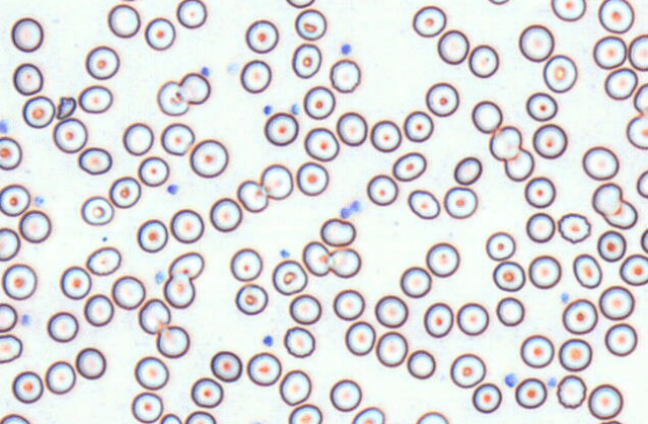PLT: (0, 116, 15, 136), (504, 372, 519, 388), (153, 269, 167, 286), (167, 181, 182, 196), (340, 41, 354, 57), (33, 194, 47, 208), (262, 334, 276, 348), (20, 313, 33, 328), (558, 292, 572, 305), (352, 198, 364, 213), (261, 103, 274, 116), (338, 206, 351, 218), (200, 66, 214, 77), (291, 103, 302, 115), (279, 249, 290, 261), (548, 376, 557, 388)
RBC: (189, 138, 228, 178), (518, 24, 554, 62), (542, 54, 577, 93), (449, 352, 486, 388), (1, 263, 37, 300), (561, 298, 598, 334), (581, 145, 619, 180), (587, 383, 623, 419), (271, 259, 307, 295), (52, 117, 88, 153), (303, 126, 339, 161), (532, 123, 567, 159), (598, 285, 634, 320), (84, 45, 120, 80), (134, 355, 169, 390), (246, 351, 281, 386), (169, 208, 204, 243), (263, 111, 298, 146), (259, 163, 293, 199), (425, 81, 459, 117), (138, 297, 171, 334), (488, 125, 522, 160), (295, 161, 329, 196), (111, 275, 145, 310), (425, 242, 459, 277), (107, 3, 141, 38), (156, 80, 189, 116), (10, 16, 43, 52), (598, 0, 634, 33), (155, 324, 189, 358), (374, 294, 408, 328), (520, 334, 554, 368), (592, 35, 626, 69), (245, 19, 279, 53), (209, 197, 242, 232), (528, 254, 561, 289), (163, 272, 195, 308), (279, 369, 311, 405), (375, 331, 407, 367), (160, 122, 194, 155), (229, 247, 262, 281), (604, 67, 638, 100), (443, 186, 477, 219), (18, 209, 51, 243), (604, 322, 637, 356), (558, 338, 592, 371), (456, 302, 489, 336), (437, 29, 469, 64), (329, 58, 361, 93), (291, 42, 322, 78), (108, 175, 141, 208), (22, 95, 55, 128), (591, 182, 623, 216), (44, 360, 76, 394), (136, 218, 168, 252), (234, 283, 268, 315), (59, 265, 91, 299), (239, 59, 271, 93), (303, 85, 335, 119), (412, 5, 446, 37), (344, 320, 375, 355), (336, 111, 367, 146), (468, 43, 499, 78), (320, 217, 356, 247), (423, 301, 453, 337), (85, 245, 121, 275), (177, 72, 210, 104), (236, 179, 268, 212), (366, 173, 398, 206), (329, 378, 361, 411), (332, 288, 365, 320), (11, 370, 43, 403), (514, 377, 547, 409), (503, 147, 534, 181), (327, 247, 361, 278), (557, 212, 591, 243), (144, 16, 175, 50), (471, 99, 502, 133), (572, 253, 602, 288), (168, 251, 204, 280), (301, 240, 330, 276), (77, 84, 113, 113), (131, 391, 163, 423), (137, 155, 169, 187), (399, 266, 431, 298), (210, 350, 242, 382), (294, 8, 326, 40), (122, 122, 153, 155), (190, 377, 223, 408), (288, 293, 321, 324), (83, 293, 114, 326), (492, 260, 525, 291), (12, 62, 43, 95), (370, 119, 401, 152), (603, 199, 637, 229), (556, 374, 586, 408), (80, 195, 114, 225), (392, 151, 426, 181), (77, 146, 112, 175), (283, 326, 315, 357), (75, 347, 106, 379), (46, 311, 78, 342), (524, 176, 555, 208), (596, 229, 626, 262), (0, 183, 30, 216), (407, 189, 440, 219), (403, 110, 433, 142), (525, 91, 557, 121), (471, 382, 501, 413), (525, 212, 555, 243), (619, 253, 647, 286), (485, 231, 515, 261), (175, 0, 207, 28), (406, 349, 435, 379), (453, 155, 482, 185), (495, 296, 524, 326), (0, 135, 22, 170), (550, 0, 586, 21), (626, 114, 647, 149), (628, 33, 647, 71), (0, 226, 20, 260), (288, 403, 322, 423), (0, 333, 22, 363), (351, 406, 384, 423), (0, 302, 17, 332), (633, 82, 647, 115), (184, 410, 216, 423), (415, 411, 448, 423), (636, 169, 647, 198), (0, 413, 30, 423), (285, 0, 315, 8), (159, 413, 182, 423), (640, 227, 648, 254), (598, 419, 624, 424), (487, 0, 510, 5), (117, 0, 145, 2)
Schistocyte: (55, 97, 77, 120)
